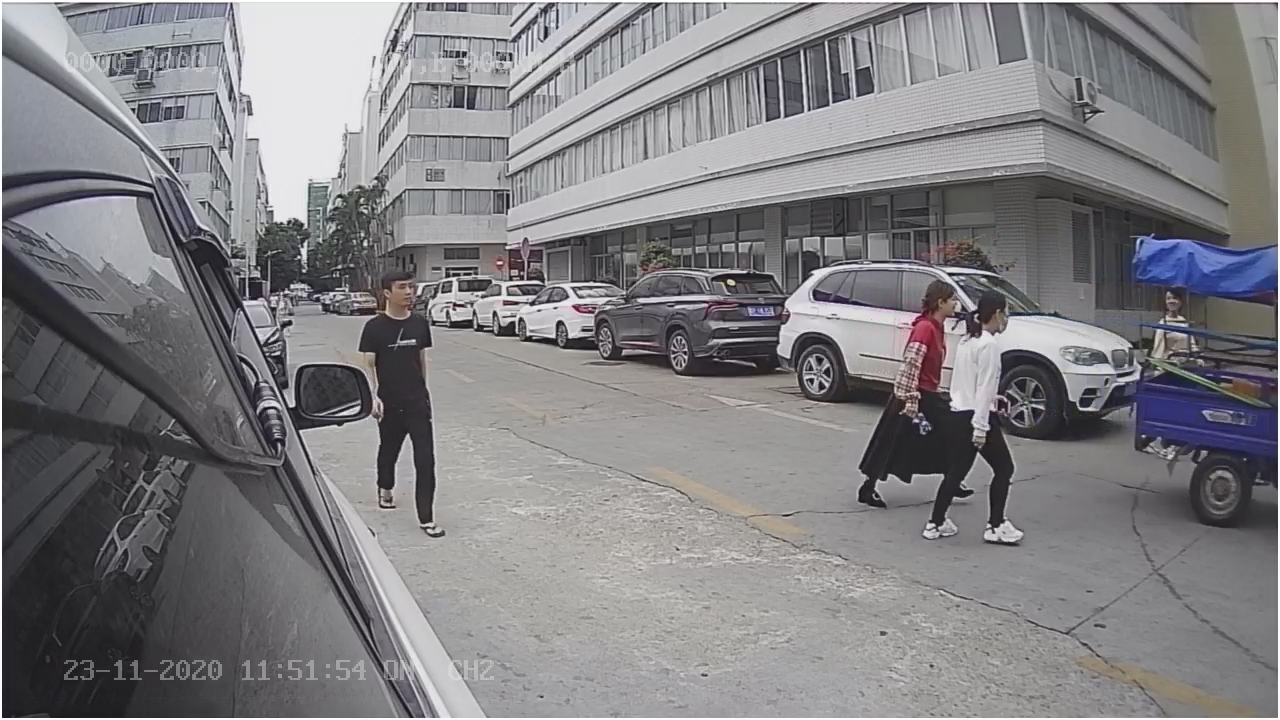person: (925, 287, 1034, 542), (361, 267, 450, 540)
